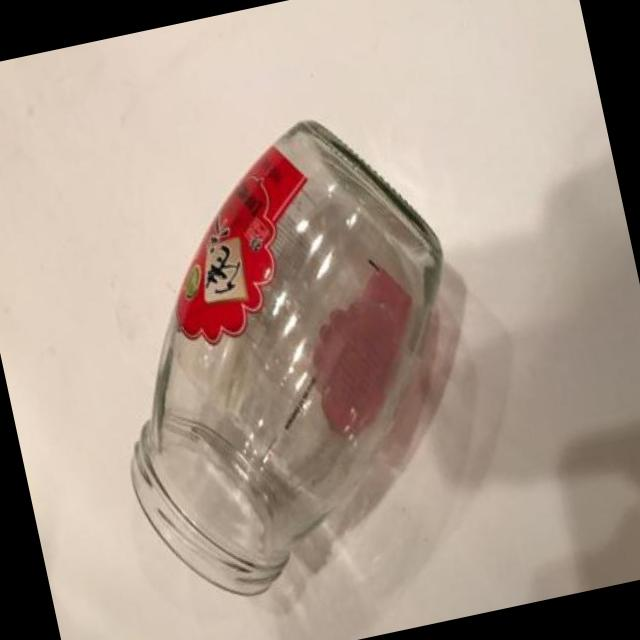ToplesKaca: (63, 92, 514, 618)
